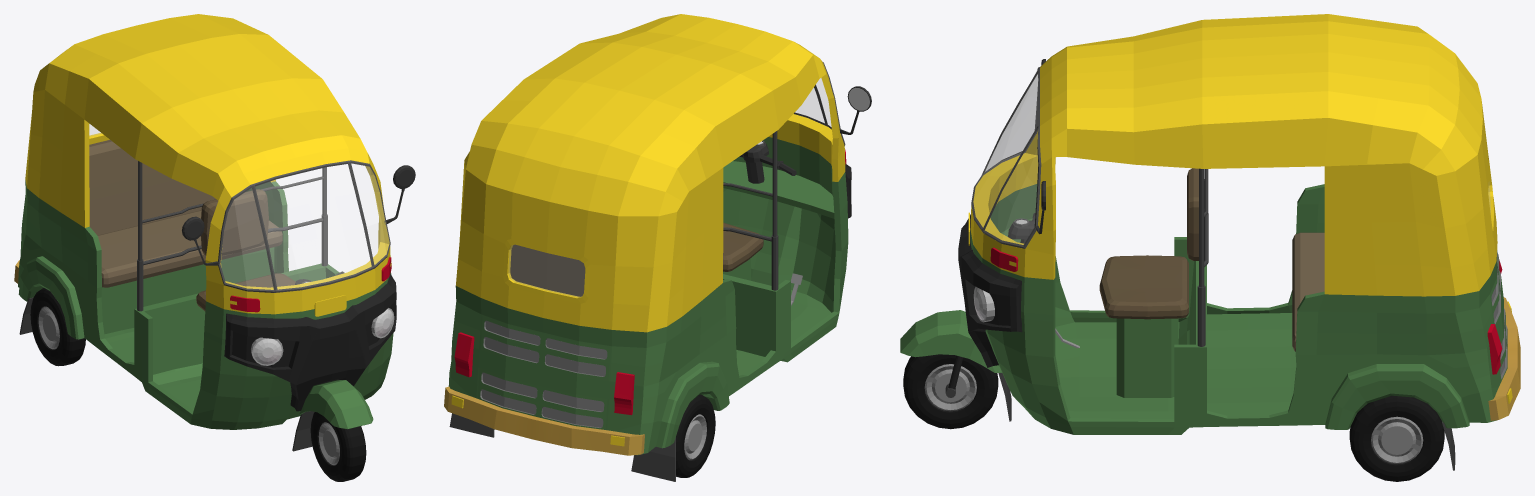
File: tuk-tuk.glb
3 renders of one model, left to right at view 1: azimuth 30°, elevation 25°; view 2: azimuth 150°, elevation 25°; view 3: azimuth 270°, elevation 25°, orthographic. The views are drawn at different scales.
Parts seen in each view (by area): view 1: tuk-tuk; view 2: tuk-tuk; view 3: tuk-tuk.
Boxes of the visible parts, box(x1,y1,x2,y2) form: tuk-tuk: box(14, 14, 415, 481); tuk-tuk: box(444, 14, 871, 481); tuk-tuk: box(900, 14, 1520, 481).
Bounding box in the file's own units: 1.37 × 1.78 × 2.68.
Materials: 4 (1 with a texture image).
